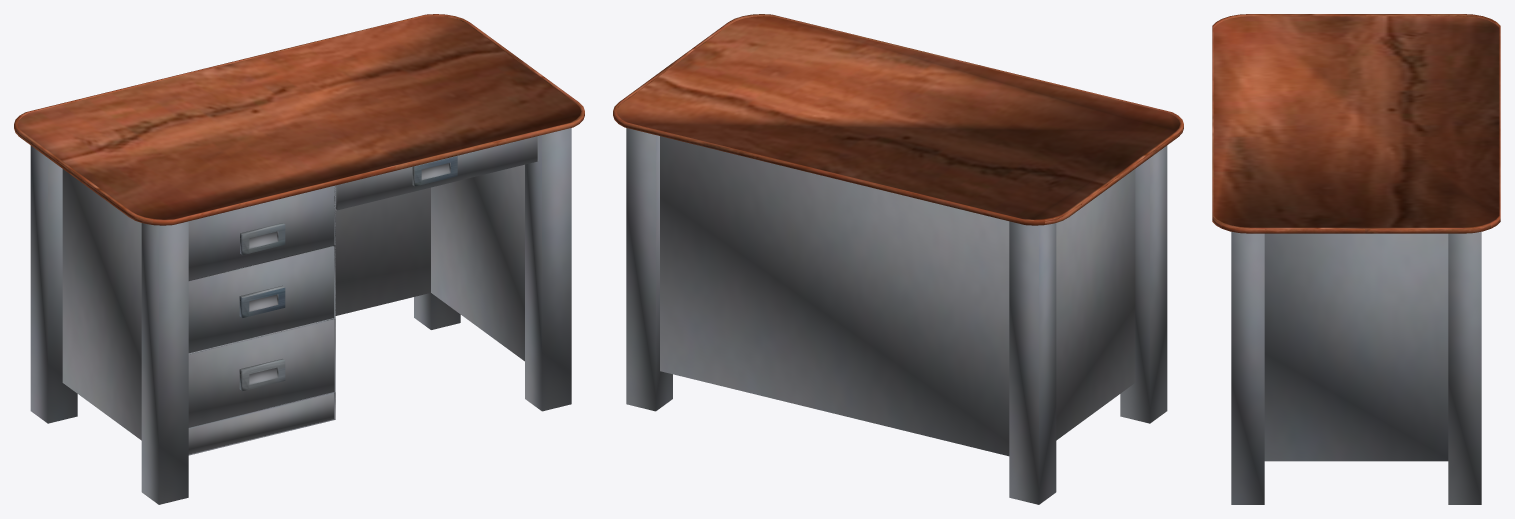
The model's file is desk_small.fbx.
3 views of the same model, side by side, from view 1: azimuth 30°, elevation 25°; view 2: azimuth 150°, elevation 25°; view 3: azimuth 270°, elevation 25° (orthographic). The views are drawn at different scales.
Visible parts, largest first — view 1: desk_small; view 2: desk_small; view 3: desk_small.
Part boxes in pixels (<box>): desk_small: <box>14,14,584,504</box>; desk_small: <box>613,14,1183,504</box>; desk_small: <box>1212,14,1500,504</box>.
Bounding box in the file's own units: 6.4 × 3.95 × 3.63.
